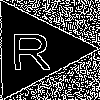R: (9, 24, 51, 70)
